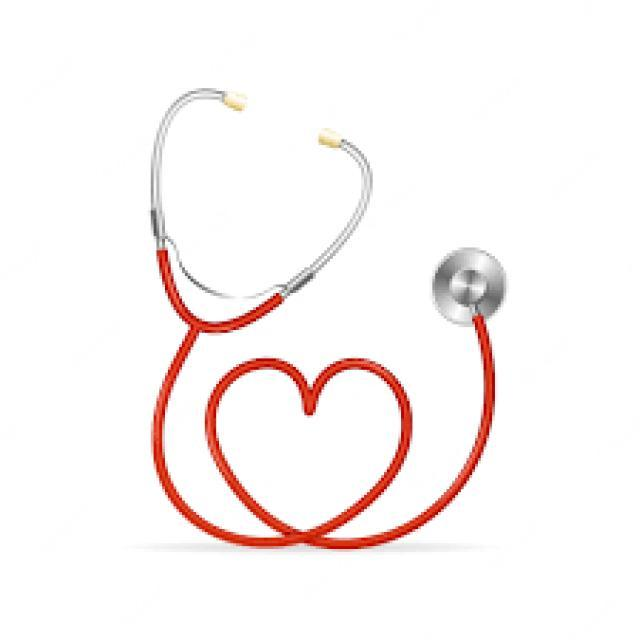stethoscope: (108, 42, 563, 603)
